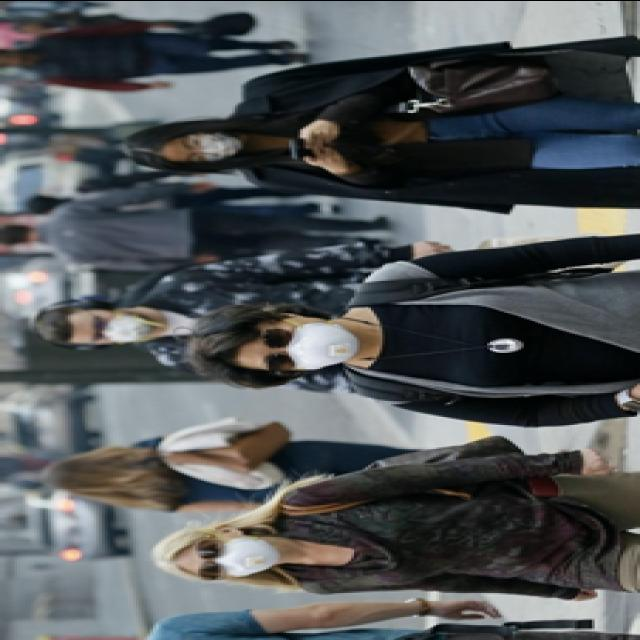with_mask: (255, 318, 360, 372), (82, 309, 156, 344), (176, 130, 243, 164)
